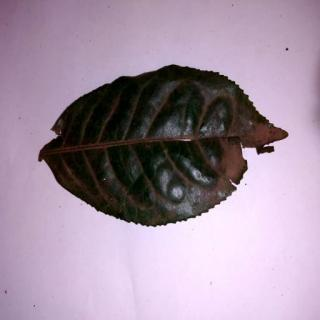Anthracnose: (30, 67, 289, 220)
